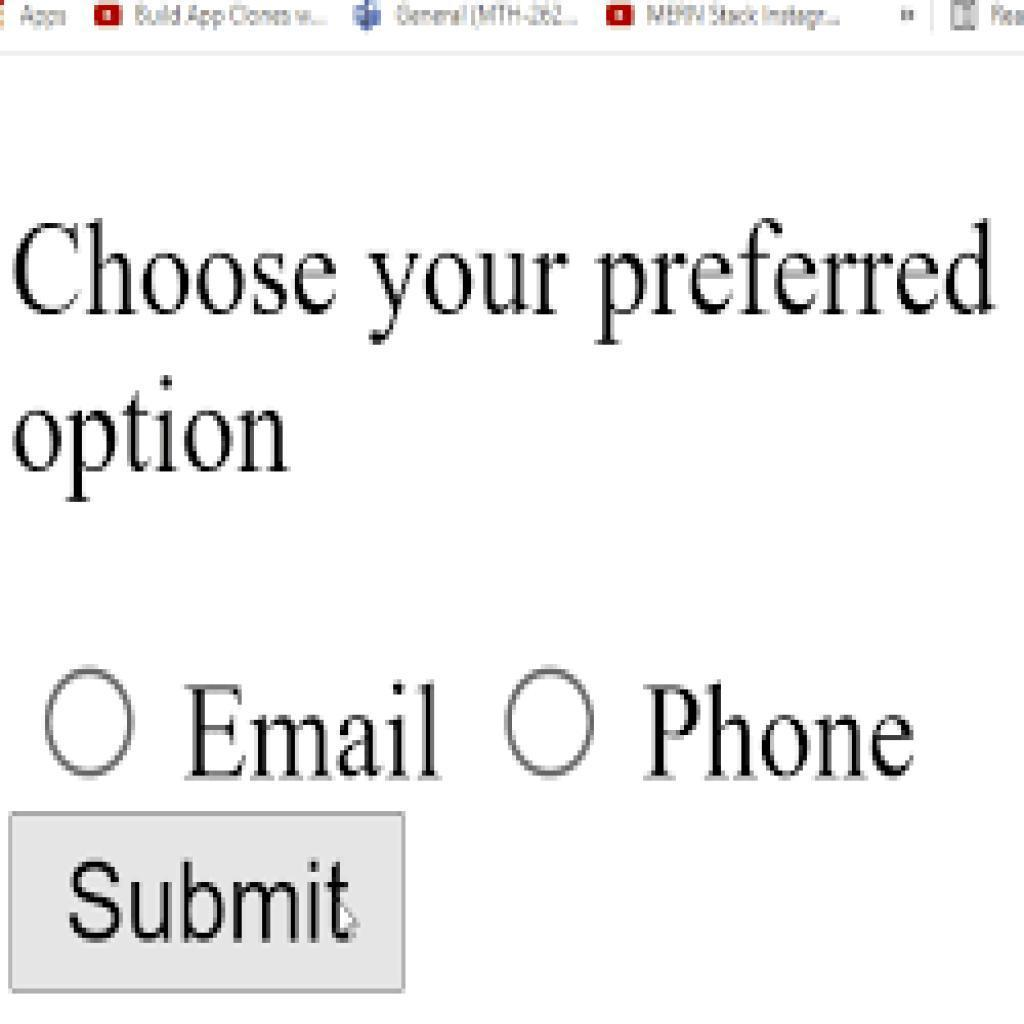button: (10, 814, 406, 993)
label: (634, 671, 926, 786), (180, 675, 450, 793)
radio: (502, 663, 597, 781), (43, 667, 141, 780)
